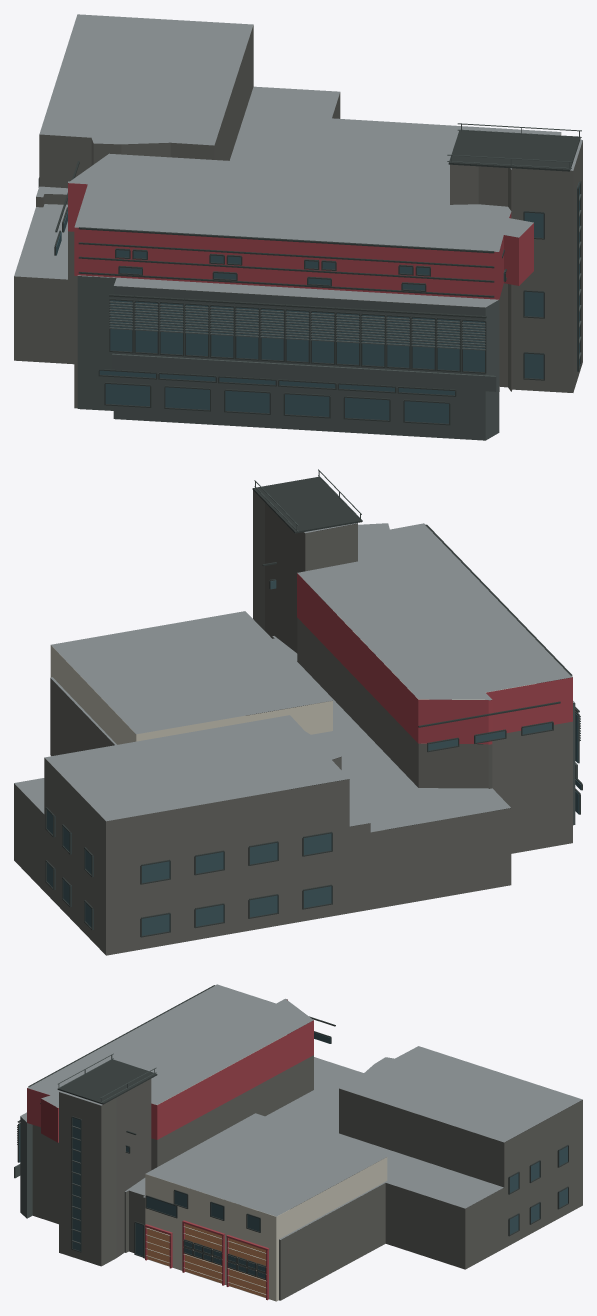
Rendered from fire-station-ijsbrand.glb.
The picture shows the model from 3 angles, top to bottom: view 1: azimuth 30°, elevation 25°; view 2: azimuth 150°, elevation 25°; view 3: azimuth 270°, elevation 25°; orthographic projection. The views are drawn at different scales.
Parts seen in each view (by area): view 1: fire-station-ijsbrand; view 2: fire-station-ijsbrand; view 3: fire-station-ijsbrand.
Part boxes in pixels (box(x1,y1,x2,y2)): fire-station-ijsbrand: box(14, 14, 582, 440); fire-station-ijsbrand: box(14, 469, 582, 955); fire-station-ijsbrand: box(14, 984, 582, 1301).
Bounding box in the file's own units: 38.6 × 16.14 × 49.51.
